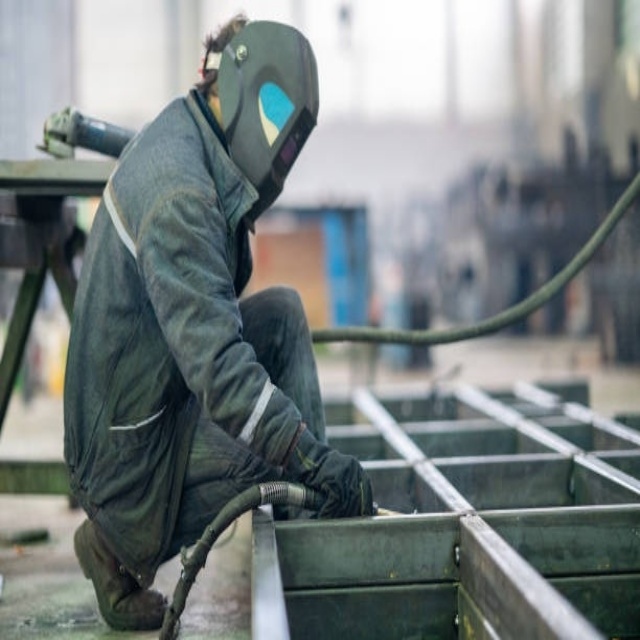Guantes: (288, 425, 373, 519)
